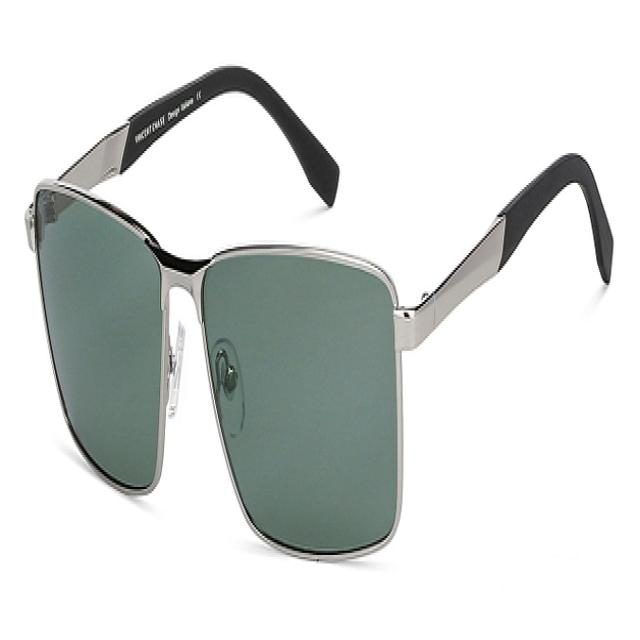sunglasses: (22, 179, 404, 559)
